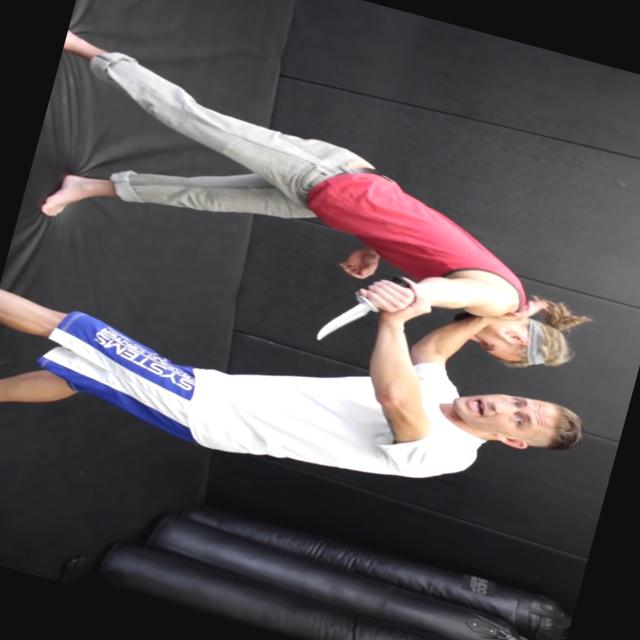knife: (298, 252, 420, 365)
